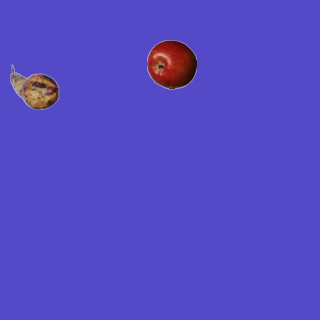Apple Braeburn: (146, 39, 196, 89)
Pear Abate: (9, 62, 59, 112)
